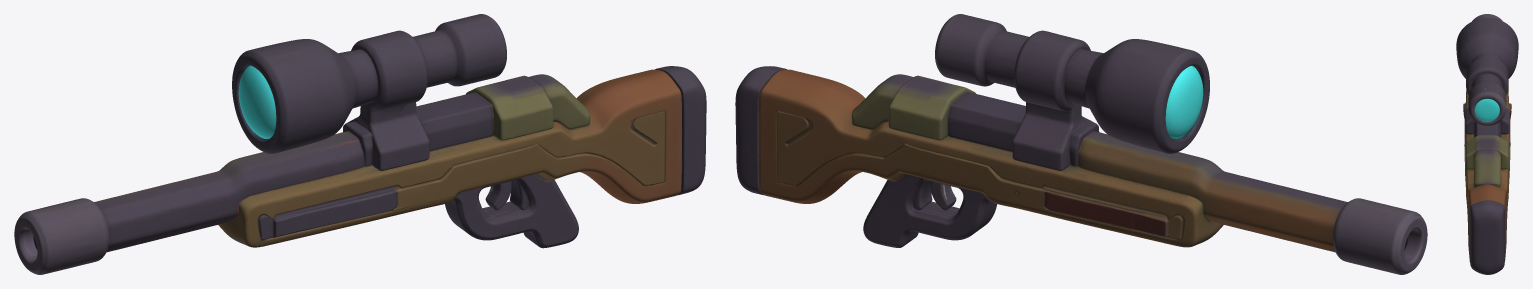
Rendered from lynx_waffe_original.glb.
3 views of the same model, side by side, from view 1: azimuth 30°, elevation 25°; view 2: azimuth 150°, elevation 25°; view 3: azimuth 270°, elevation 25° (orthographic). The views are drawn at different scales.
Bounding box in the file's own units: 1.9 × 0.698 × 0.265.
1 material, 1 textured.
